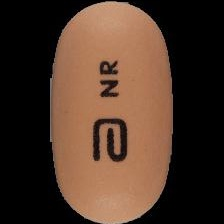24236-225: (0, 0, 224, 224)
